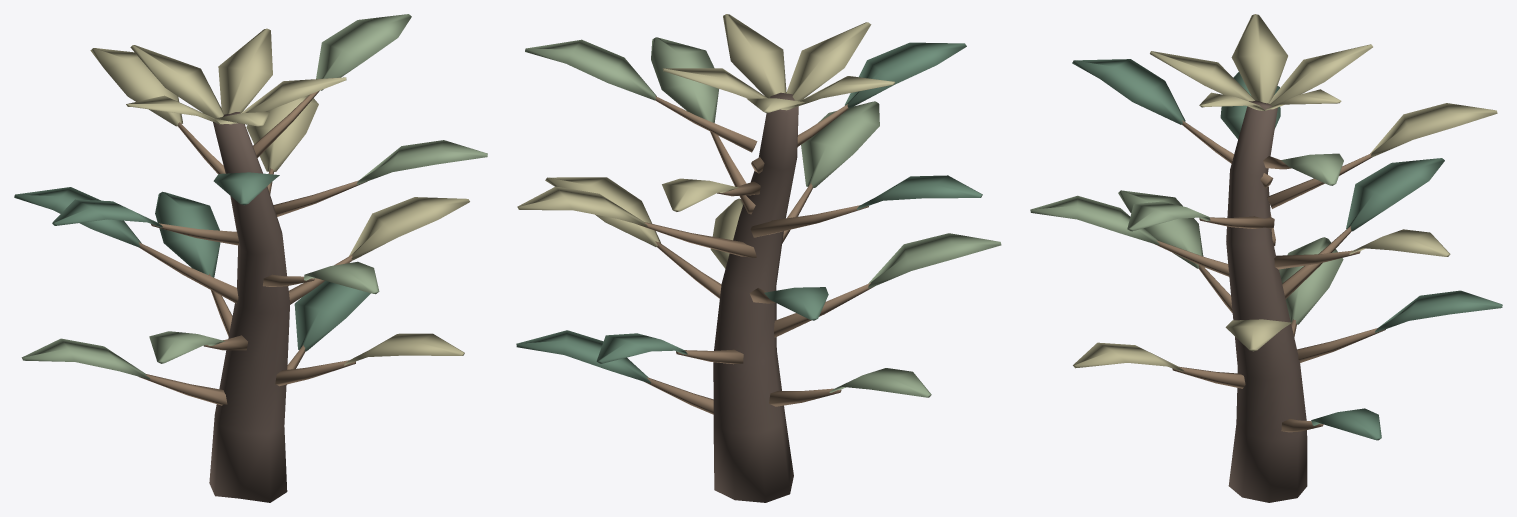
The model's file is tree_spiral.glb.
The picture shows the model from 3 angles, left to right: view 1: azimuth 30°, elevation 25°; view 2: azimuth 150°, elevation 25°; view 3: azimuth 270°, elevation 25°; orthographic projection. The views are drawn at different scales.
Parts seen in each view (by area): view 1: tree_spiral; view 2: tree_spiral; view 3: tree_spiral.
Boxes of the visible parts, left/top/right/bottom form: tree_spiral: left=14, top=14, right=487, bottom=502; tree_spiral: left=516, top=14, right=1001, bottom=502; tree_spiral: left=1030, top=14, right=1502, bottom=502.
Bounding box in the file's own units: 6.69 × 6.4 × 6.67.
